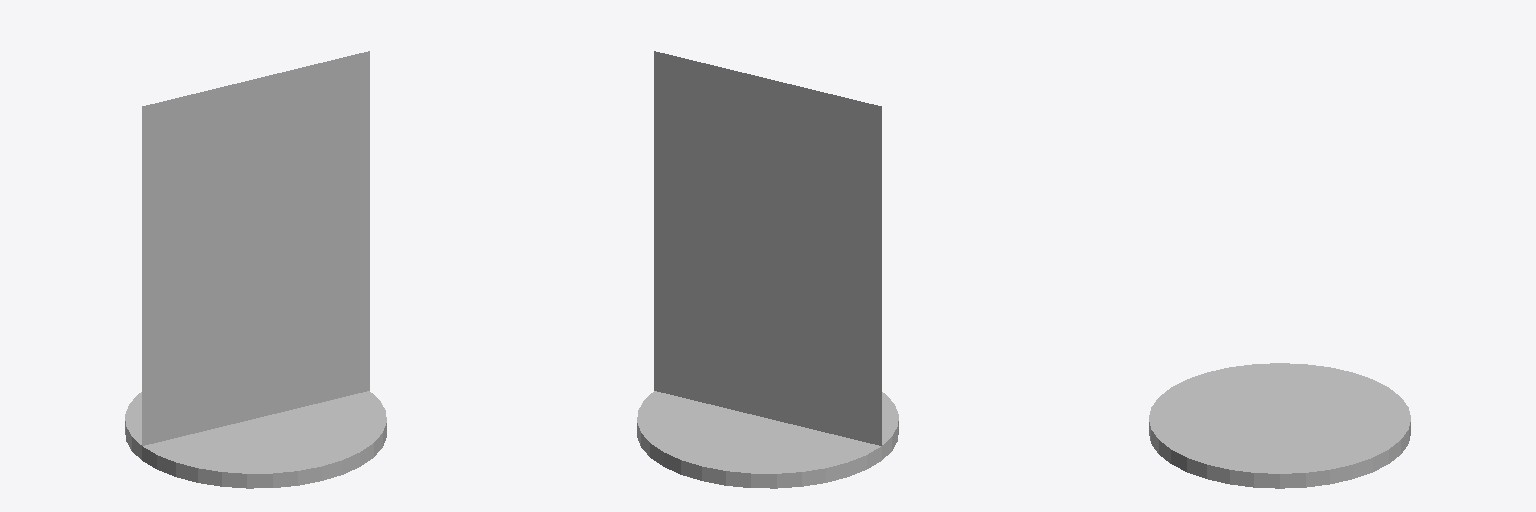
File: TwoSidedFigurine.obj
3 renders of one model, left to right at view 1: azimuth 30°, elevation 25°; view 2: azimuth 150°, elevation 25°; view 3: azimuth 270°, elevation 25°, orthographic.
Visible parts, largest first — view 1: Plane_Plane.002; view 2: Plane_Plane.002; view 3: Plane_Plane.002.
Boxes of the visible parts, x1=… form: Plane_Plane.002: x1=125, y1=51, x2=386, y2=488; Plane_Plane.002: x1=637, y1=51, x2=898, y2=488; Plane_Plane.002: x1=1149, y1=363, x2=1410, y2=488.
Size of the model in its own units: 0.9259 by 1.38 by 0.9259.